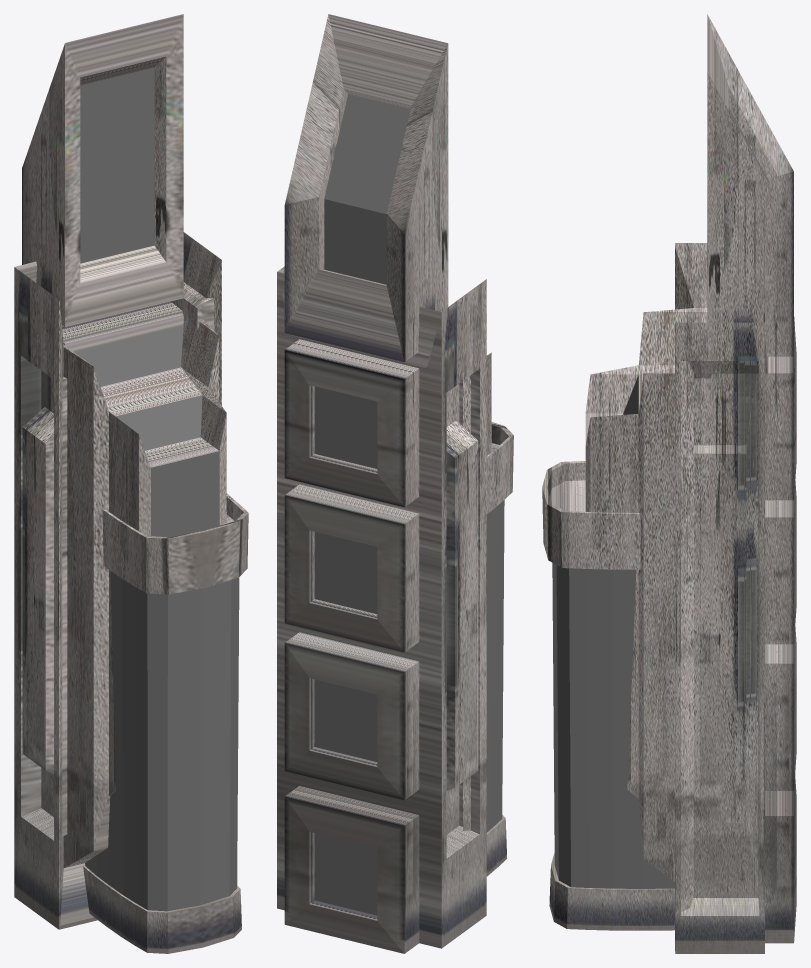
File: Building02.FBX
3 renders of one model, left to right at view 1: azimuth 30°, elevation 25°; view 2: azimuth 150°, elevation 25°; view 3: azimuth 270°, elevation 25°, orthographic.
Parts seen in each view (by area): view 1: polySurface1825; view 2: polySurface1825; view 3: polySurface1825.
Part boxes in pixels (<box>): polySurface1825: <box>14,14,248,953</box>; polySurface1825: <box>277,14,513,953</box>; polySurface1825: <box>542,14,796,953</box>.
Size of the model in its own units: 143 by 719 by 190.
2 materials, 1 textured.
